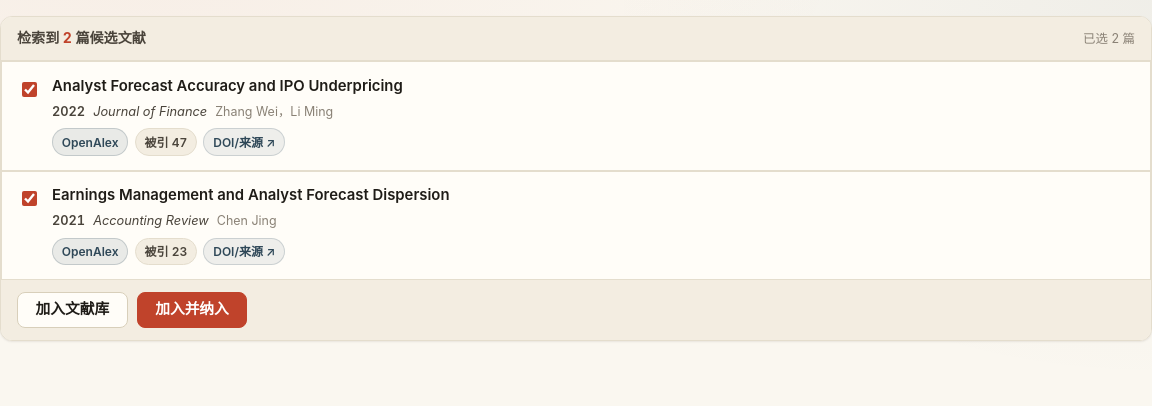
Test: SearchCandidateCards › P2-3: failed > 0 时显示失败计数（不与 skipped 混淆）
This screenshot has width=1152, height=406.
Click the button "加入文献库".
click(72, 310)  # box [17,292,128,328]
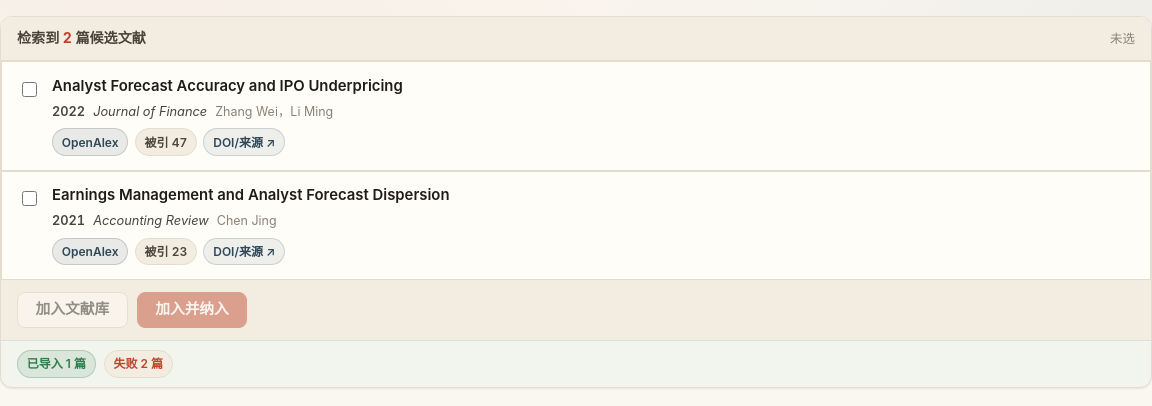
Expected: the text "已导入 1 篇" is shown, [17,350,96,378]
Expected: the text "失败 2 篇" is shown, [104,350,173,378]
